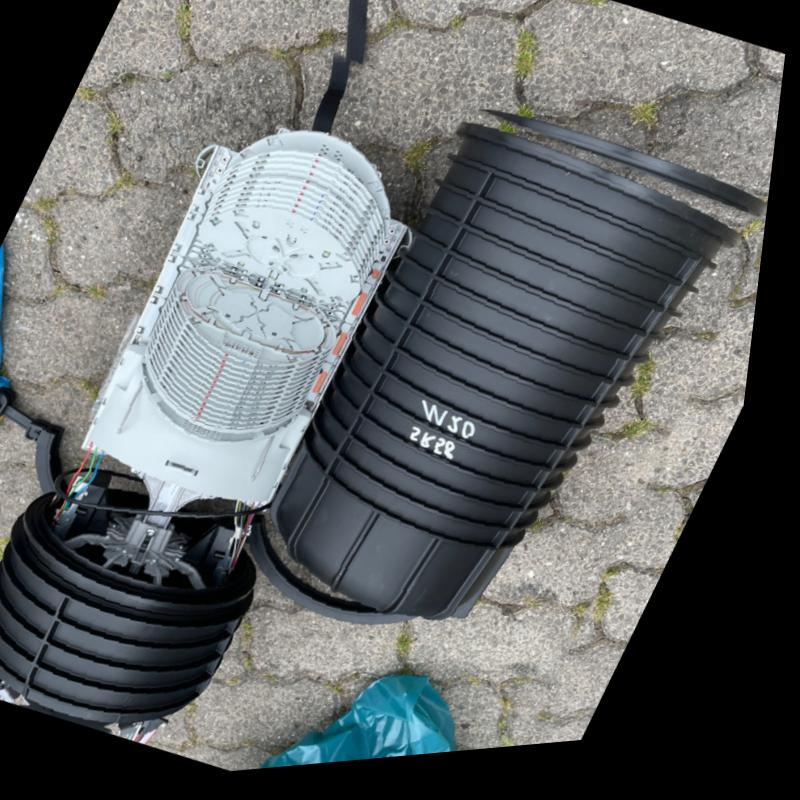NT-Muffen: (0, 97, 773, 762)
